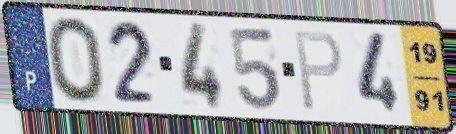2: (106, 17, 162, 109)
4: (354, 29, 408, 121), (177, 20, 227, 112)
5: (226, 25, 284, 113)
O: (43, 14, 109, 105)
P: (292, 29, 345, 114)
